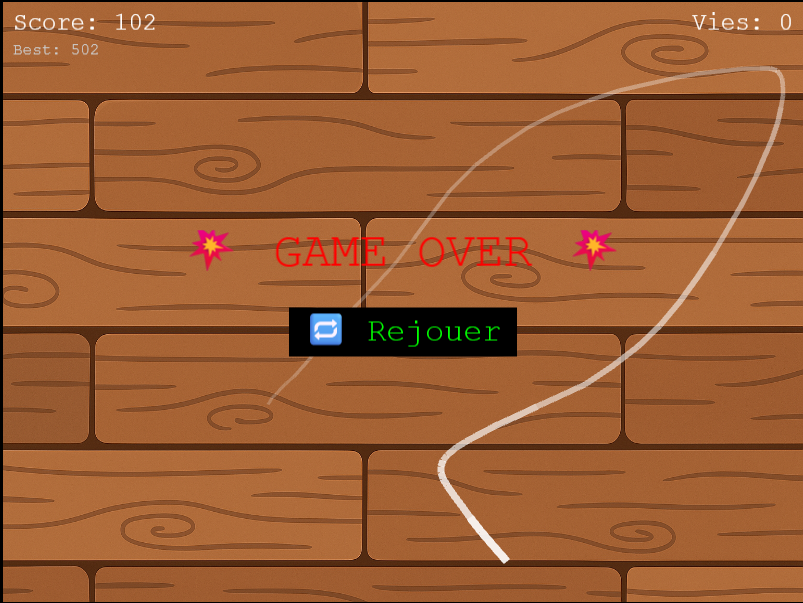replay: (289, 307, 518, 357)
